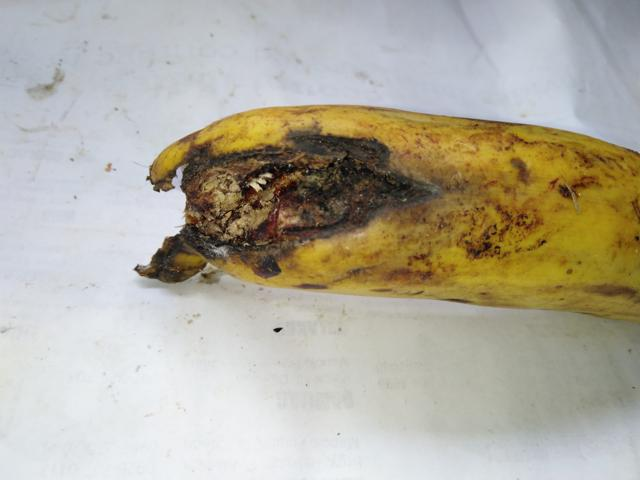ripe: (157, 87, 639, 347)
rotten: (107, 109, 431, 283)
